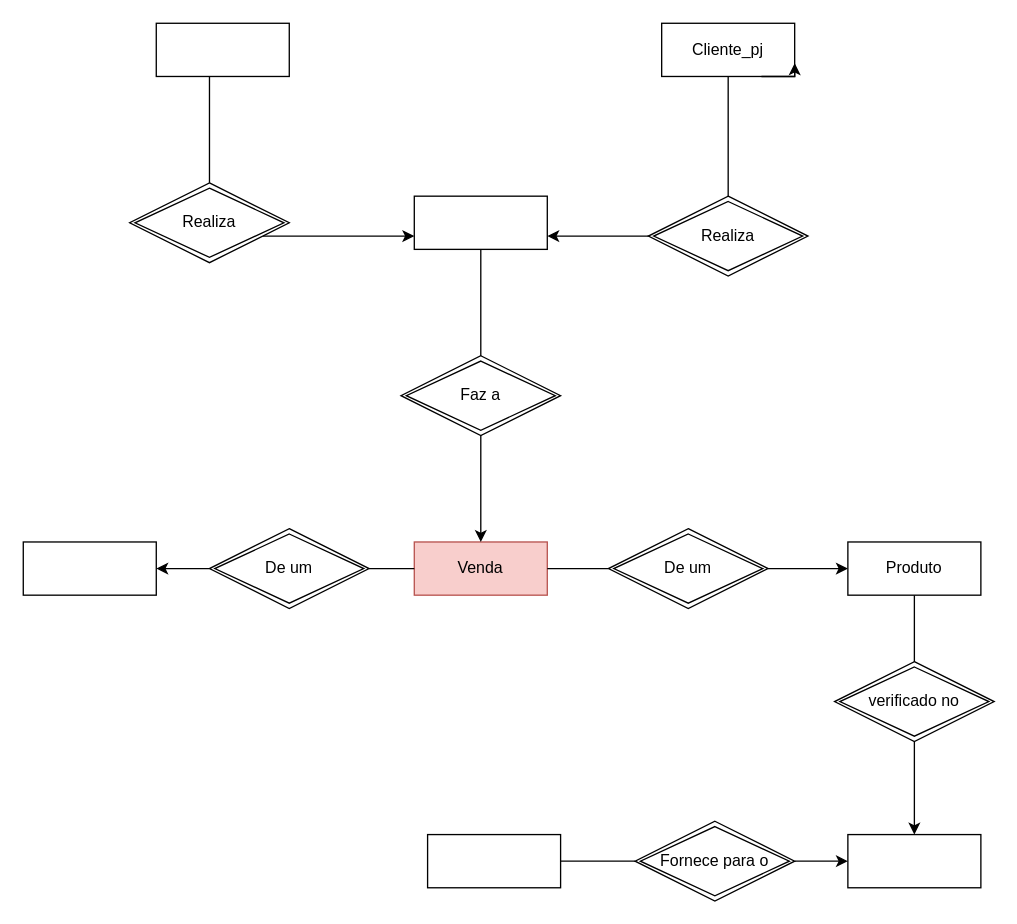
Image size: 1017x924. Some labels were removed from this diagram. The centre of each missing label's shape, as x and y in pixels:
"Cliente" belongs at (x=222, y=49).
"Estoque" belongs at (x=914, y=860).
"Fornecedor" belongs at (x=493, y=860).
"Pedido" belongs at (x=480, y=222).
"Serviço" belongs at (x=89, y=568).
